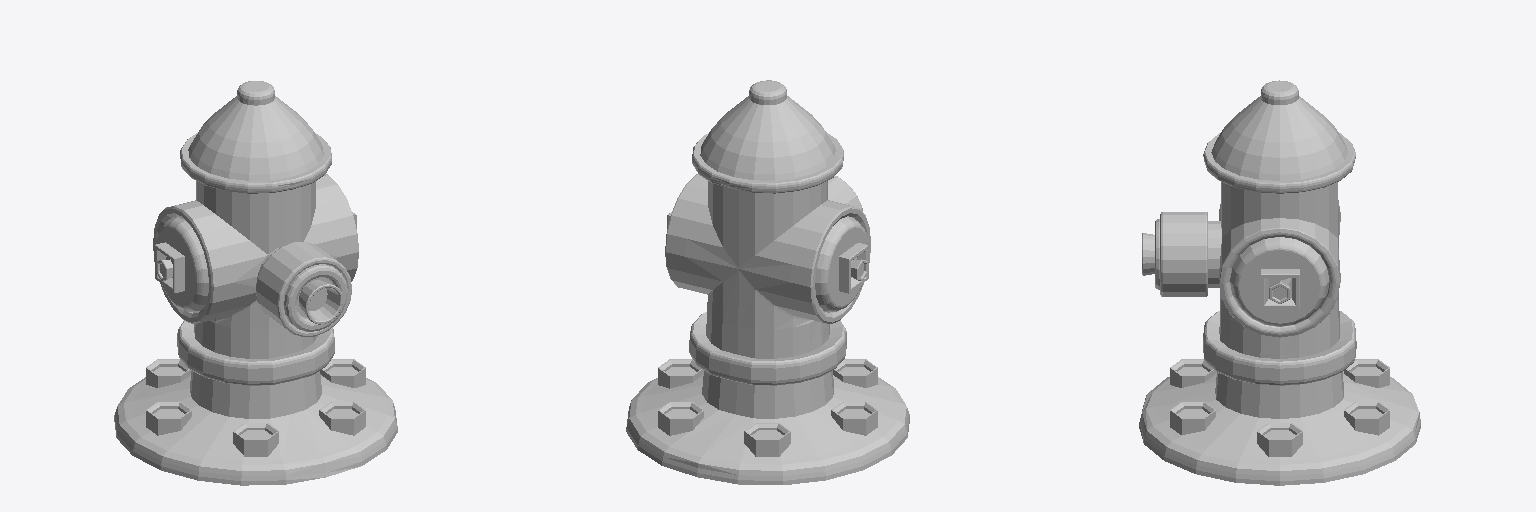
The model's file is Fire Hydrant.obj.
3 views of the same model, side by side, from view 1: azimuth 30°, elevation 25°; view 2: azimuth 150°, elevation 25°; view 3: azimuth 270°, elevation 25° (orthographic).
Visible parts, largest first — view 1: group pasted__pCube7, pCylinder1; view 2: group pasted__pCube7, pCylinder1; view 3: group pasted__pCube7, pCylinder1.
Part boxes in pixels (bbox=[...]): group pasted__pCube7: bbox=[114, 81, 397, 485]; pCylinder1: bbox=[256, 241, 351, 336]; group pasted__pCube7: bbox=[626, 80, 909, 484]; pCylinder1: bbox=[828, 176, 862, 211]; group pasted__pCube7: bbox=[1139, 80, 1420, 485]; pCylinder1: bbox=[1142, 212, 1221, 296].
Bounding box in the file's own units: 4.7 × 6.16 × 4.66.